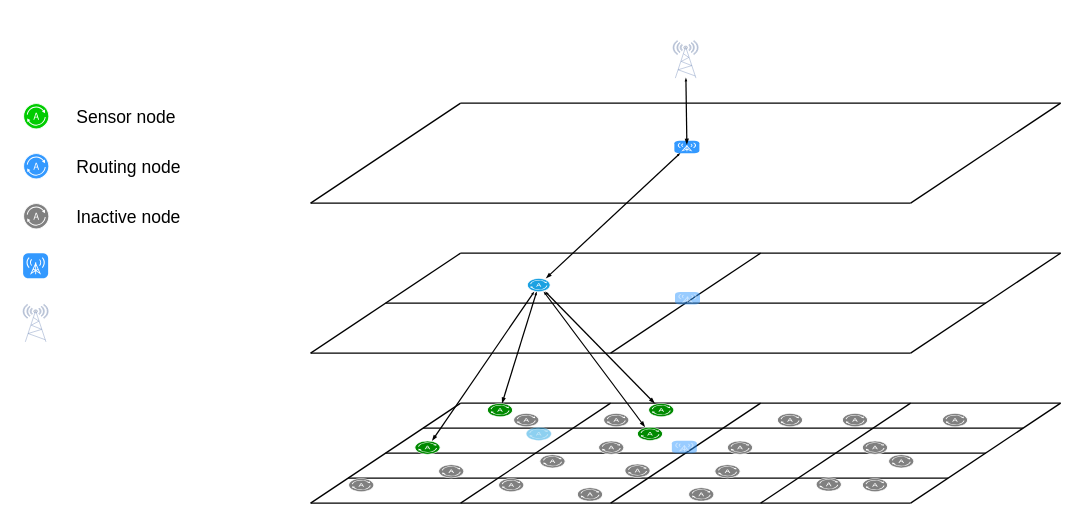
This 1084x526 diagram has some shape labels left out. The shapes that lost their labels are listed below. From the top down, each one's box as (x1, y1, x2, y2) in pixels, then its label:
(22, 252, 48, 278): Sink node
(21, 302, 49, 342): Broadcast tower
